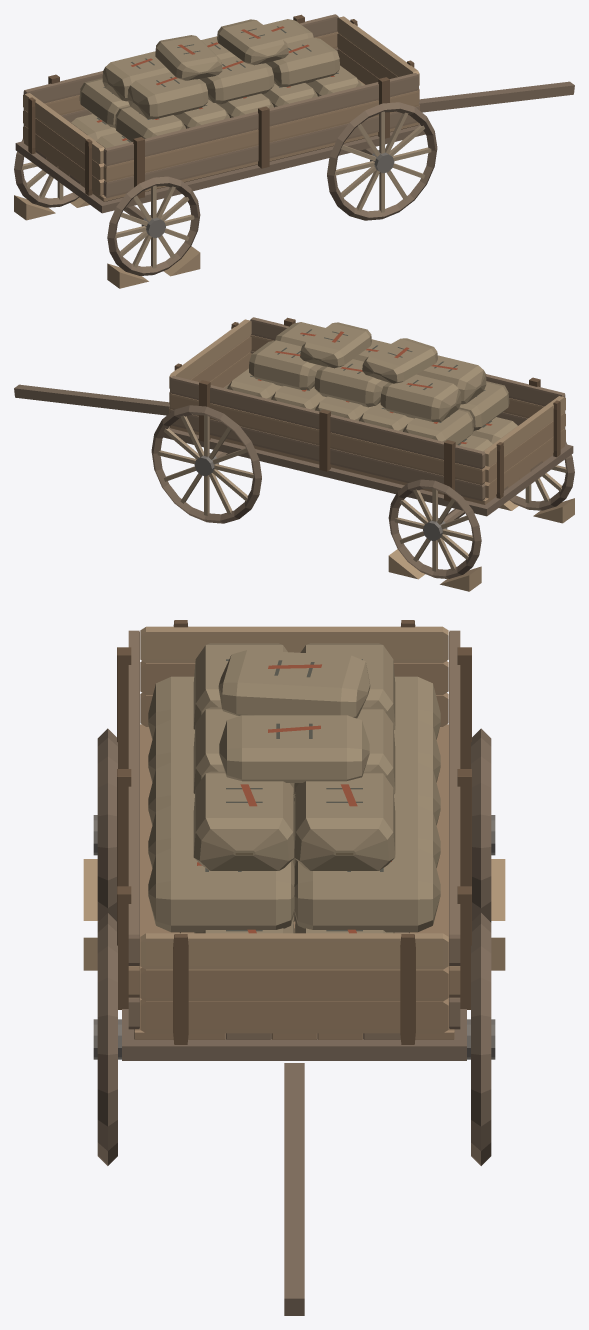
File: HarvestWagon_r001.glb
3 views of the same model, one above another, from view 1: azimuth 30°, elevation 25°; view 2: azimuth 150°, elevation 25°; view 3: azimuth 270°, elevation 25° (orthographic). The views are drawn at different scales.
Parts seen in each view (by area): view 1: ParkedWagon-col, GrainLoad-col, WheelChocks-col; view 2: ParkedWagon-col, GrainLoad-col, WheelChocks-col; view 3: ParkedWagon-col, GrainLoad-col, WheelChocks-col.
Boxes of the visible parts, bbox=[...] form: ParkedWagon-col: bbox=[14, 14, 574, 275]; GrainLoad-col: bbox=[71, 19, 364, 148]; WheelChocks-col: bbox=[14, 195, 200, 288]; ParkedWagon-col: bbox=[14, 317, 574, 578]; GrainLoad-col: bbox=[224, 322, 517, 451]; WheelChocks-col: bbox=[388, 498, 574, 591]; ParkedWagon-col: bbox=[93, 620, 495, 1315]; GrainLoad-col: bbox=[148, 643, 440, 933]; WheelChocks-col: bbox=[83, 859, 505, 970].
Bounding box in the file's own units: 5.85 × 1.87 × 2.08.
